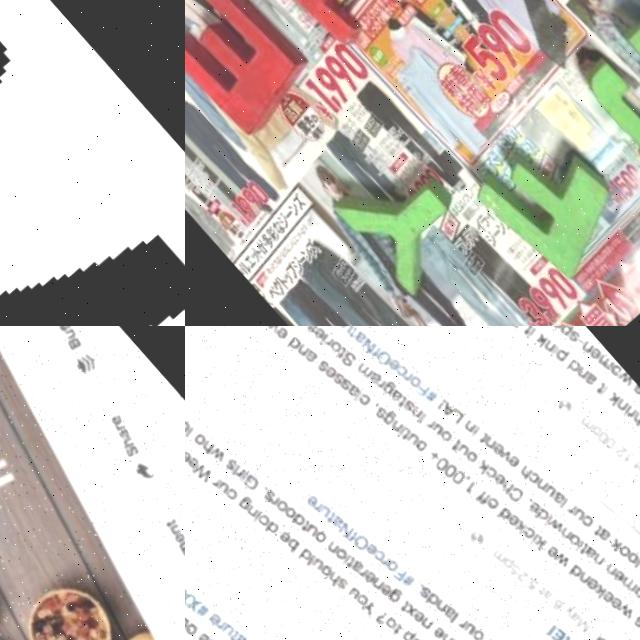0: (438, 458, 459, 479), (430, 451, 450, 472), (599, 429, 619, 450), (447, 465, 467, 485), (592, 424, 612, 444)
1: (617, 444, 634, 462), (462, 477, 479, 494)
2: (610, 440, 629, 458), (512, 564, 529, 581)
5: (505, 558, 522, 576), (522, 572, 539, 589)
6: (546, 592, 564, 609)
C: (572, 4, 640, 181)
E: (185, 0, 318, 144)
F: (467, 115, 628, 280)
I: (229, 0, 410, 53)
N: (0, 0, 185, 326)
Y: (325, 139, 476, 294)
